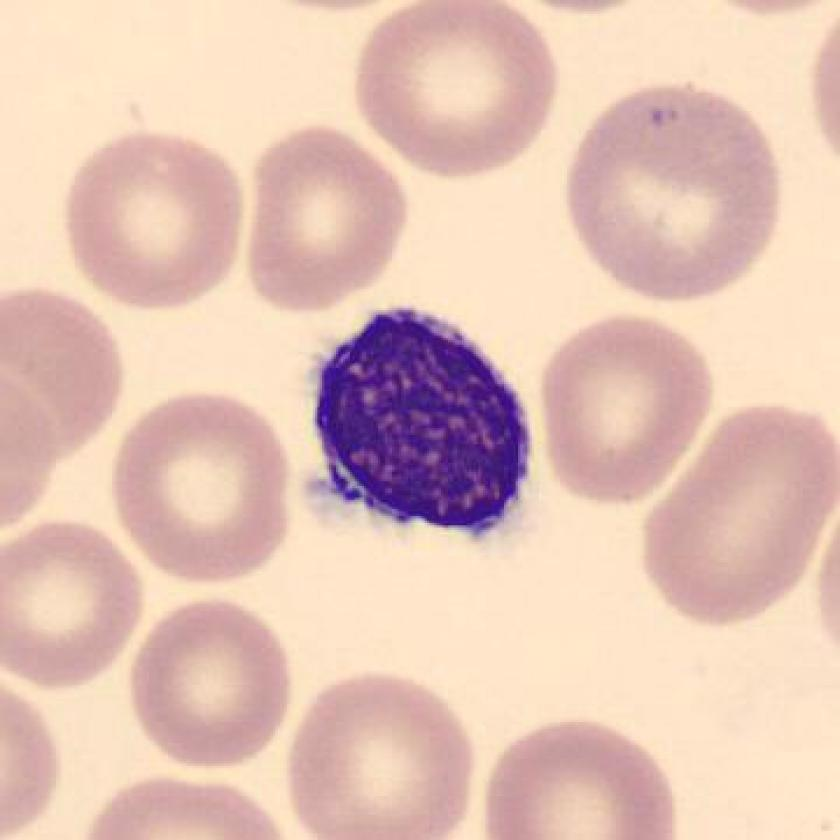lymphocyte: (295, 298, 547, 557)
